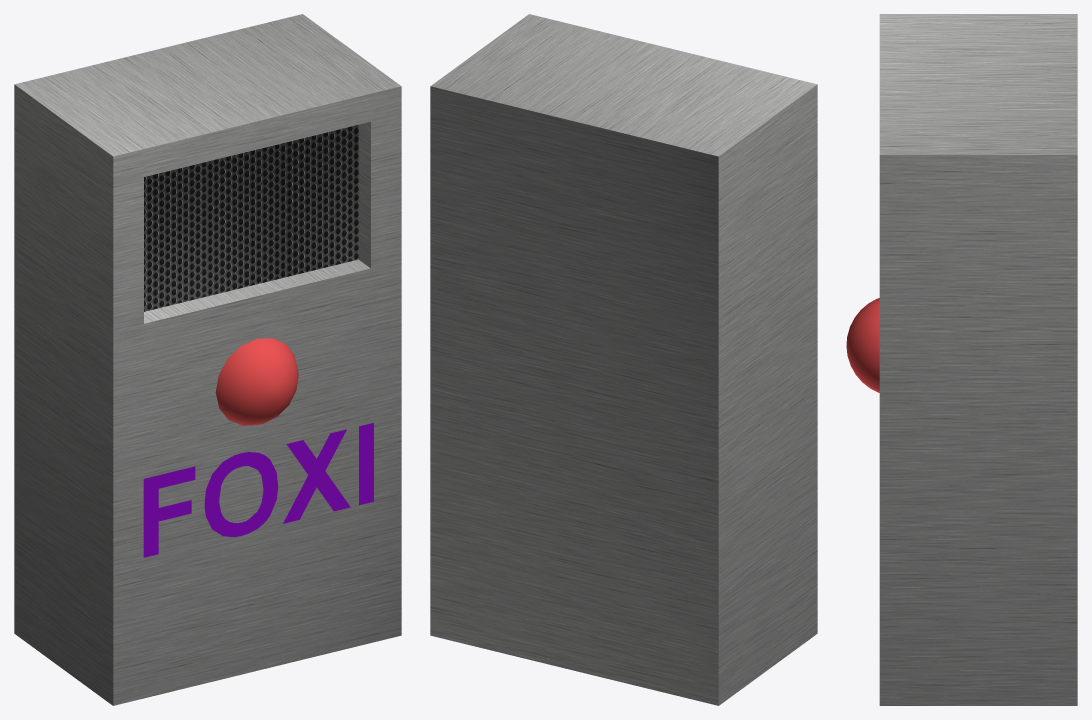
File: FOXI.fbx
The picture shows the model from 3 angles, left to right: view 1: azimuth 30°, elevation 25°; view 2: azimuth 150°, elevation 25°; view 3: azimuth 270°, elevation 25°; orthographic projection.
Parts seen in each view (by area): view 1: polySurface15; view 2: polySurface15; view 3: polySurface15.
Part boxes in pixels (left/top/right/bottom): polySurface15: left=14, top=14, right=401, bottom=705; polySurface15: left=430, top=14, right=817, bottom=705; polySurface15: left=846, top=14, right=1077, bottom=705.
Size of the model in its own units: 2.68 by 4.88 by 1.86.
